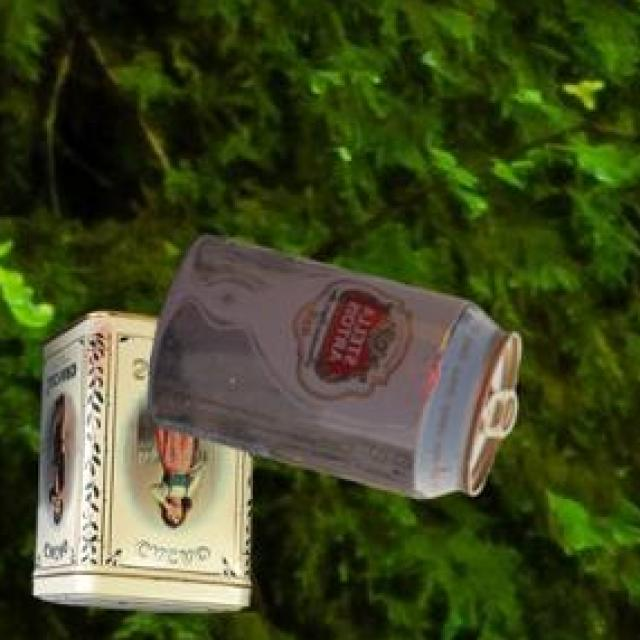logam: (151, 232, 525, 496), (37, 308, 256, 608)
